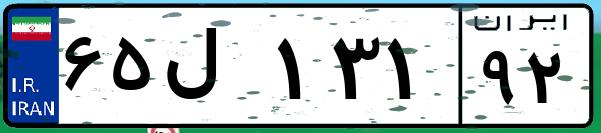1: (270, 28, 330, 110), (385, 28, 445, 110)
2: (525, 38, 570, 115)
3: (330, 28, 385, 110)
5: (110, 28, 158, 98)
6: (57, 26, 110, 100)
9: (475, 38, 525, 113)
ل: (158, 20, 270, 120)
